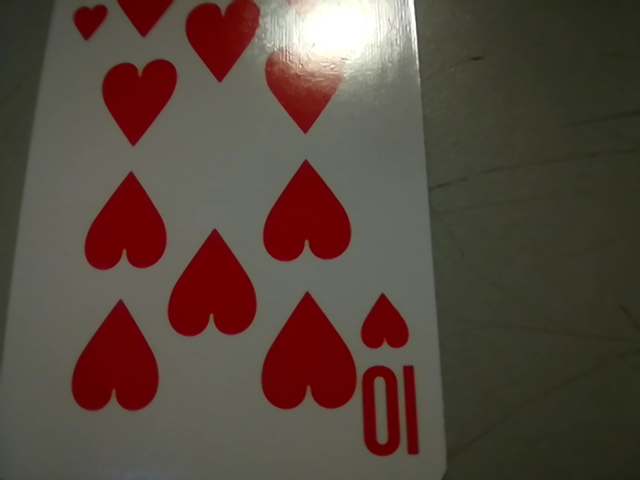hx 10: (346, 282, 440, 477)
